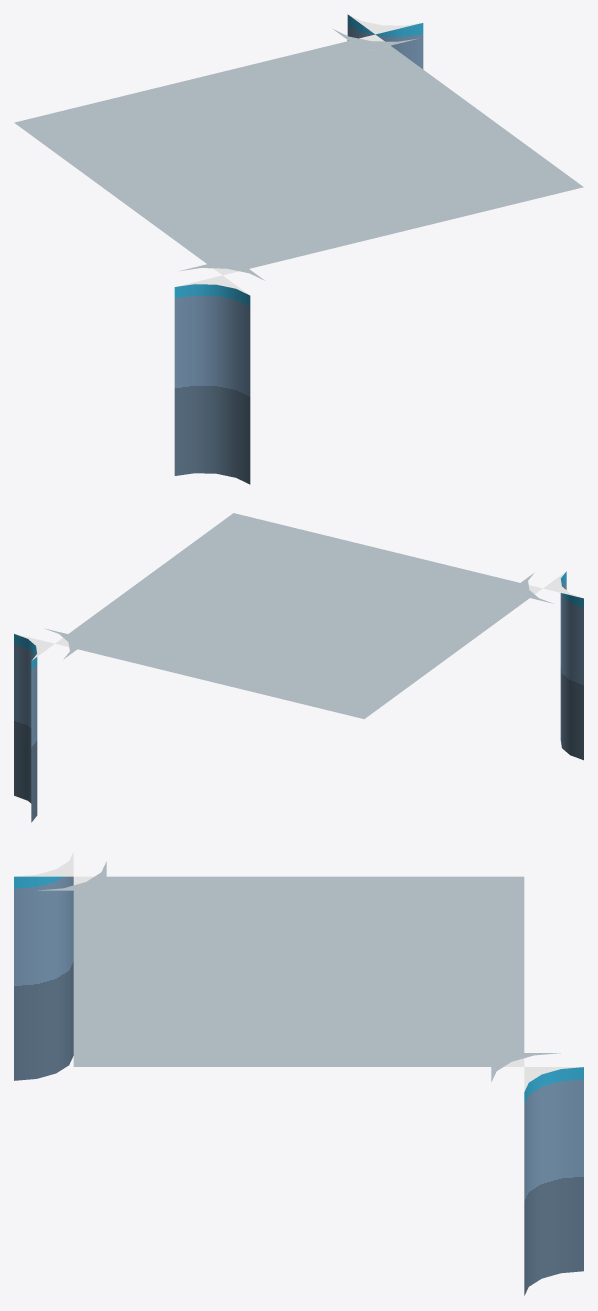
File: TileFace1111Corner1010.fbx
3 views of the same model, one above another, from view 1: azimuth 30°, elevation 25°; view 2: azimuth 150°, elevation 25°; view 3: azimuth 270°, elevation 25° (orthographic). The views are drawn at different scales.
Visible parts, largest first — view 1: Face1111Corner1010v1_; view 2: Face1111Corner1010v1_; view 3: Face1111Corner1010v1_.
Part boxes in pixels (x1,y1,x2,y2): Face1111Corner1010v1_: (14,14,583,484); Face1111Corner1010v1_: (14,513,583,822); Face1111Corner1010v1_: (14,852,583,1295).
Bounding box in the file's own units: 126 × 50.01 × 126.
